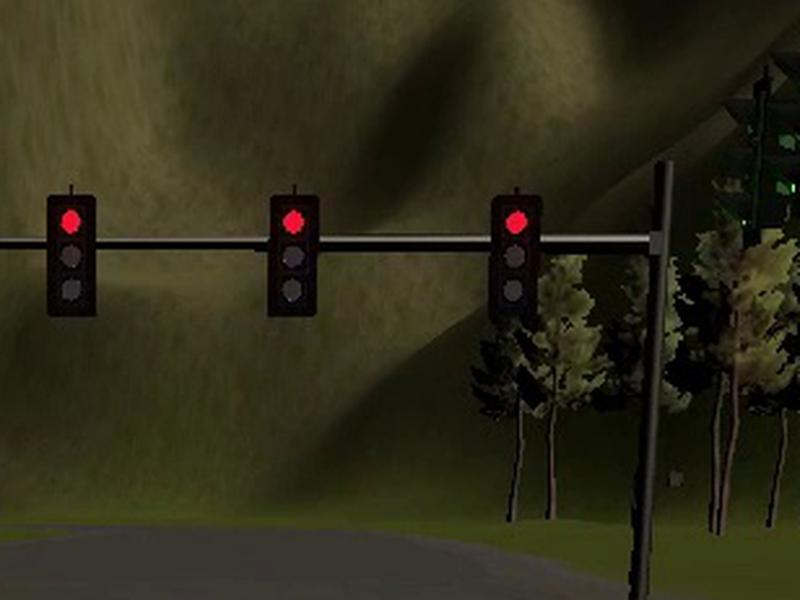Red: (487, 196, 544, 316), (267, 193, 320, 316), (45, 195, 96, 317)
